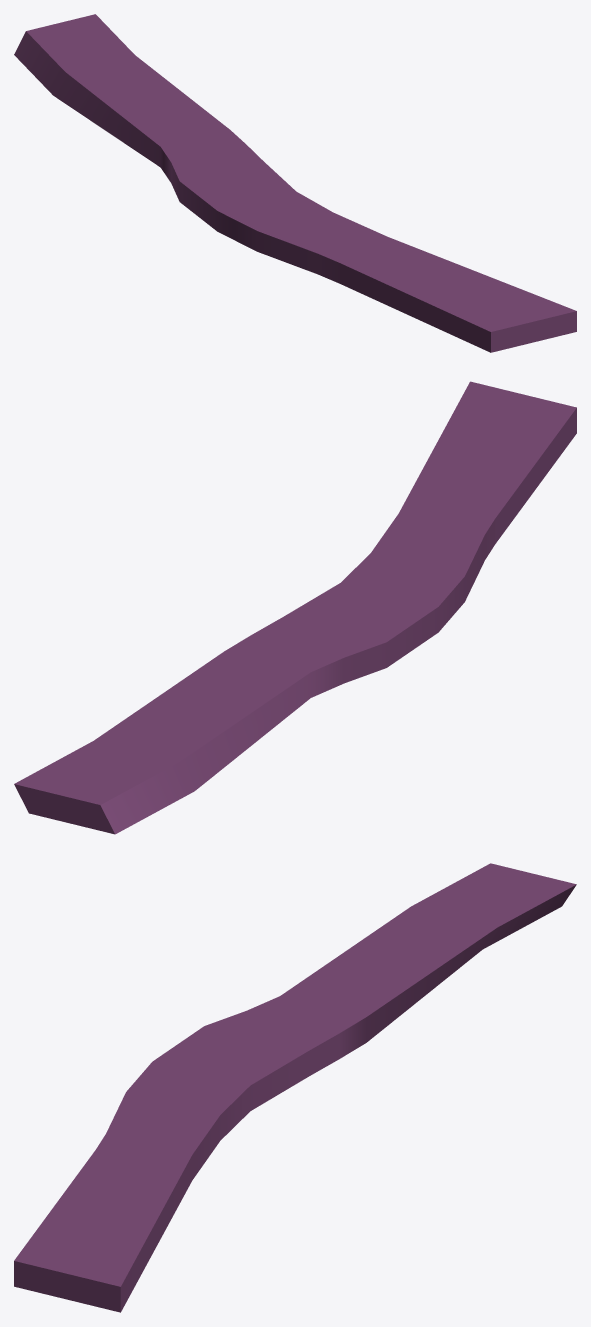
The model's file is road2.fbx.
The picture shows the model from 3 angles, top to bottom: view 1: azimuth 30°, elevation 25°; view 2: azimuth 150°, elevation 25°; view 3: azimuth 330°, elevation 25°; orthographic projection. The views are drawn at different scales.
Parts seen in each view (by area): view 1: pCube4; view 2: pCube4; view 3: pCube4.
Part boxes in pixels (bbox=[...]): pCube4: bbox=[14, 14, 576, 352]; pCube4: bbox=[14, 381, 576, 834]; pCube4: bbox=[14, 863, 576, 1312].
Size of the model in its own units: 8.41 by 1 by 37.04.
